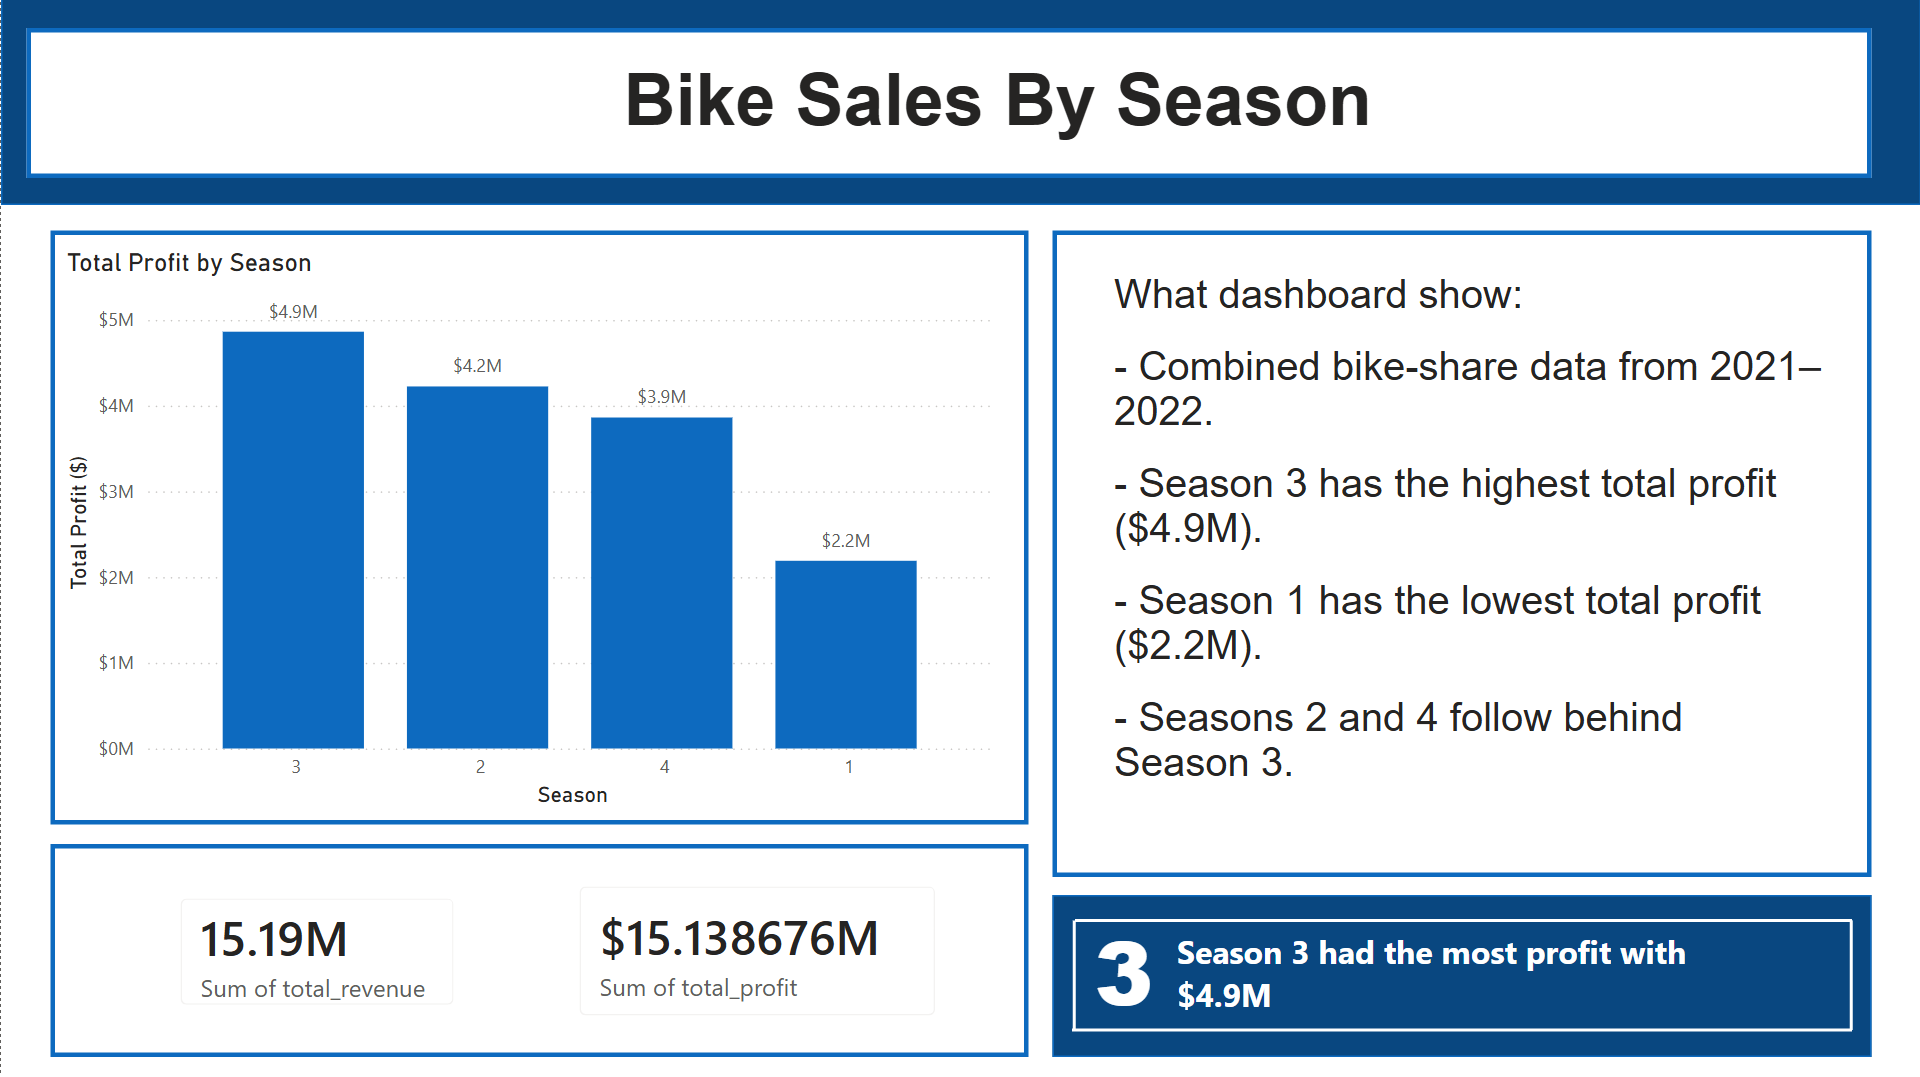

Layout of this report page (visuals, bound fields, positions):
{"tool":"powerbi","page":{"name":"Page 1","canvas":[1280,720],"ordinal":0},"visuals":[{"type":"shape","box":[0,0,1280,138.2],"z":0},{"type":"shape","box":[700.9,155.5,546.4,430.9],"z":1000},{"type":"shape","box":[17.3,20,1230,100],"z":2000},{"type":"textbox","box":[410,34.5,518.2,91.8],"z":3000},{"type":"textbox","box":[737.3,177.3,485.5,386.4],"z":4000},{"type":"shape","box":[700.9,598.2,546.4,108.2],"z":5000},{"type":"textbox","box":[724,601,55,116],"z":6000},{"type":"shape","box":[32.7,155.5,652.7,395.5],"z":7000},{"type":"clusteredColumnChart","title":"Total Profit by Season","fields":{"Y":["Sum(Query1.total_profit)"],"Category":["Query1.season"]},"box":[39.1,166.4,630,376.4],"z":8000},{"type":"shape","box":[32.7,563.6,652.7,142.7],"z":9000},{"type":"cardVisual","fields":{"Data":["Sum(Query1.total_revenue)"]},"box":[102.7,582.7,216.4,105.5],"z":10000},{"type":"cardVisual","fields":{"Data":["Sum(Query1.total_profit)"]},"box":[369.1,574.5,270.9,120.9],"z":11000},{"type":"textbox","box":[779,615,367,69],"z":12000},{"type":"shape","box":[716,601,518,28],"z":13000},{"type":"shape","box":[672,615,87,73],"z":14000},{"type":"shape","box":[714,674,520,28],"z":14001},{"type":"shape","box":[1190,615,87,73],"z":14002}]}

Visuals, with their boxes in screenshot pixels (x1, y1, x2, y2), scaled from the page's 1280x720 canvas onto the 1920x1077 screenshot:
shape: 0,0,1919,207
shape: 1051,233,1871,877
shape: 26,30,1871,180
textbox: 615,52,1392,189
textbox: 1106,265,1834,843
shape: 1051,895,1871,1057
textbox: 1086,899,1168,1073
shape: 49,233,1028,824
"Total Profit by Season" clusteredColumnChart: 59,249,1004,812
shape: 49,843,1028,1057
cardVisual - Sum(Query1.total_revenue): 154,872,479,1029
cardVisual - Sum(Query1.total_profit): 554,859,960,1040
textbox: 1168,920,1719,1023
shape: 1074,899,1851,941
shape: 1008,920,1138,1029
shape: 1071,1008,1851,1050
shape: 1785,920,1916,1029
